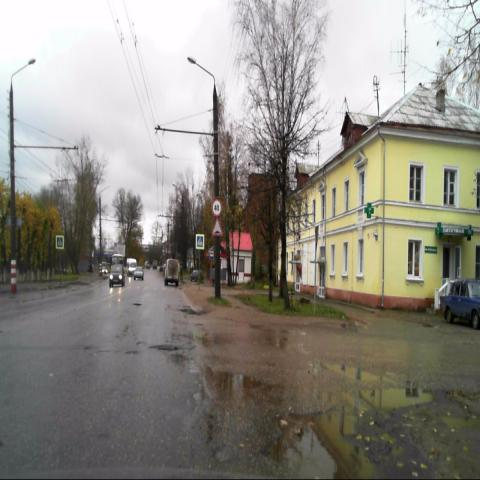1_17: (211, 217, 223, 236)
